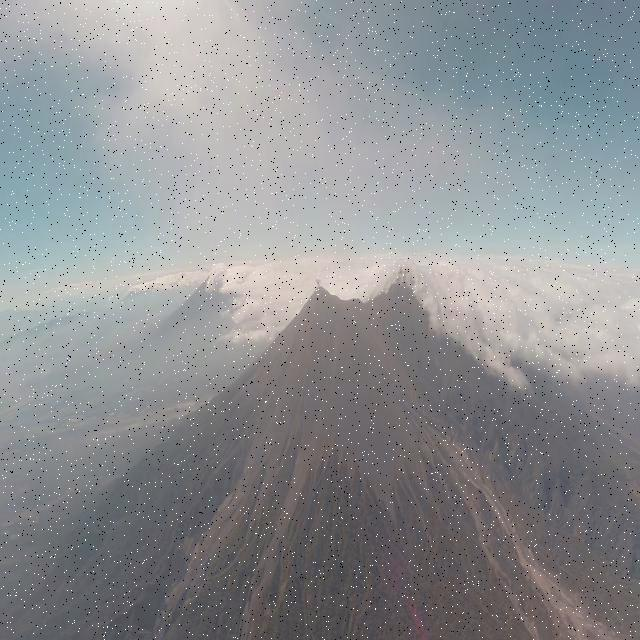Plume: (316, 276, 322, 286)
Summit: (308, 286, 340, 306)
